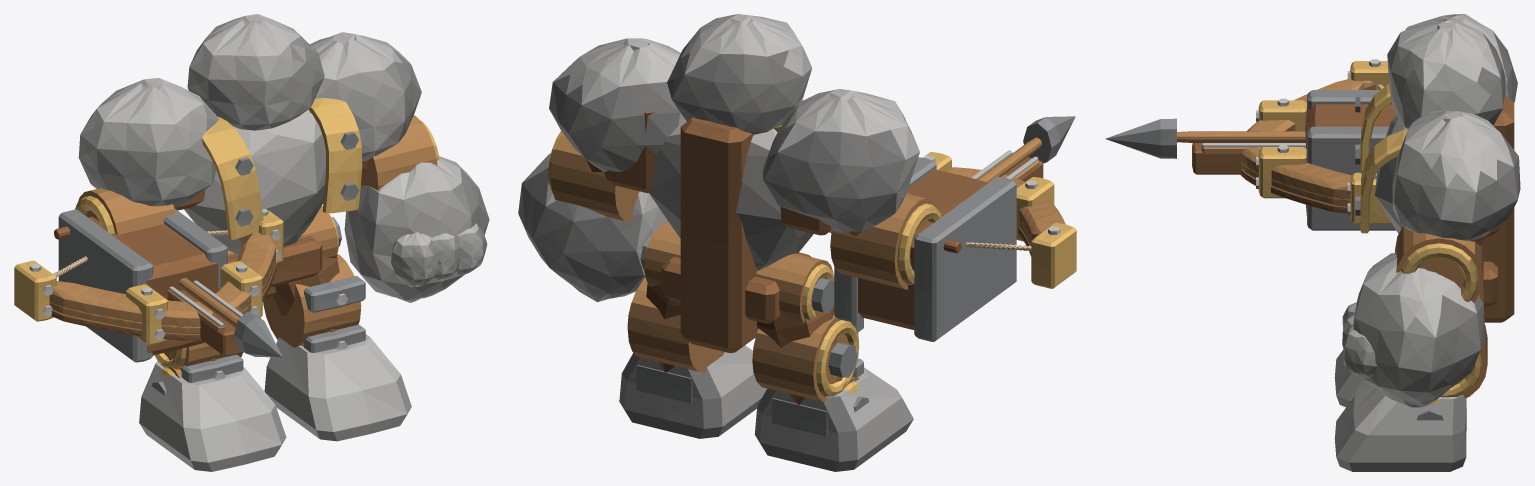
Rendered from emeraldgolem.glb.
3 views of the same model, side by side, from view 1: azimuth 30°, elevation 25°; view 2: azimuth 150°, elevation 25°; view 3: azimuth 270°, elevation 25° (orthographic). The views are drawn at different scales.
Parts seen in each view (by area): view 1: Golem — angular shoulder stone 1, Golem — source angular head, Golem LEFT — large source stone fist, Golem — source broad grounded angular stone foot 1, Golem — source broad grounded angular stone foot -1, Golem — asymmetric broad fractured pointed chest boulder, Golem — angular shoulder stone -1, Golem RIGHT compact physical ballista — broad continuously c (×2), Golem RIGHT — iron assembly clamp 0.564, Golem RIGHT — broad wood weapon forearm mount, Golem — source broad returned solid brass torso clamp 1, Golem — source broad returned solid brass torso clamp -1 (+21 smaller); view 2: Golem — angular shoulder stone 1, Golem — shaped timber spine, Golem — source angular head, Golem — angular shoulder stone -1, Golem RIGHT — iron assembly clamp 0.564, Golem LEFT — large source stone fist, Golem — source broad grounded angular stone foot 1, Golem — source broad grounded angular stone foot -1, Golem — asymmetric broad fractured pointed chest boulder, Golem RIGHT — broad wood weapon forearm mount, Golem — elbow wooden wheel 1, Golem — knee wooden wheel joint 1 (+21 smaller); view 3: Golem LEFT — large source stone fist, Golem — angular shoulder stone -1, Golem — source angular head, Golem — source broad grounded angular stone foot -1, Golem RIGHT compact physical ballista — broad continuously c (×2), Golem RIGHT — iron assembly clamp 0.327, Golem — shaped timber spine, Golem — elbow wooden wheel -1, Golem RIGHT compact physical ballista — thick limb collar -1 (×2), Golem RIGHT compact physical ballista — thick limb collar 1  (×2), Golem RIGHT compact physical ballista — large physical steel, Golem RIGHT — broad wood weapon forearm mount (+15 smaller).
Part boxes in pixels (x1,y1,x2,y2): Golem — angular shoulder stone 1: (78, 78, 219, 207); Golem — source angular head: (187, 14, 324, 130); Golem LEFT — large source stone fist: (344, 156, 489, 302); Golem — source broad grounded angular stone foot 1: (139, 360, 286, 471); Golem — source broad grounded angular stone foot -1: (264, 334, 411, 441); Golem — asymmetric broad fractured pointed chest boulder: (184, 109, 325, 253); Golem — angular shoulder stone -1: (310, 32, 421, 161); Golem RIGHT compact physical ballista — broad continuously c (×2): (49, 231, 275, 333); Golem RIGHT — iron assembly clamp 0.564: (58, 209, 153, 362); Golem RIGHT — broad wood weapon forearm mount: (89, 216, 217, 355); Golem — source broad returned solid brass torso clamp 1: (202, 116, 263, 240); Golem — source broad returned solid brass torso clamp -1: (308, 98, 362, 213); Golem — angular shoulder stone 1: (762, 89, 919, 232); Golem — shaped timber spine: (680, 117, 757, 352); Golem — source angular head: (667, 14, 812, 134); Golem — angular shoulder stone -1: (549, 38, 682, 171); Golem RIGHT — iron assembly clamp 0.564: (914, 176, 1016, 341); Golem LEFT — large source stone fist: (518, 153, 668, 302); Golem — source broad grounded angular stone foot 1: (754, 367, 913, 471); Golem — source broad grounded angular stone foot -1: (619, 345, 766, 438); Golem — asymmetric broad fractured pointed chest boulder: (648, 117, 813, 270); Golem RIGHT — broad wood weapon forearm mount: (858, 169, 988, 329); Golem — elbow wooden wheel 1: (830, 193, 939, 289); Golem — knee wooden wheel joint 1: (752, 313, 858, 402); Golem LEFT — large source stone fist: (1353, 253, 1485, 407); Golem — angular shoulder stone -1: (1392, 110, 1520, 240); Golem — source angular head: (1387, 18, 1505, 128); Golem — source broad grounded angular stone foot -1: (1334, 384, 1466, 471); Golem RIGHT compact physical ballista — broad continuously c (×2): (1241, 78, 1375, 206); Golem RIGHT — iron assembly clamp 0.327: (1307, 126, 1395, 230); Golem — shaped timber spine: (1482, 95, 1514, 322); Golem — elbow wooden wheel -1: (1395, 226, 1483, 302); Golem RIGHT compact physical ballista — thick limb collar -1 (×2): (1258, 147, 1391, 224); Golem RIGHT compact physical ballista — thick limb collar 1  (×2): (1258, 61, 1389, 131); Golem RIGHT compact physical ballista — large physical steel: (1105, 118, 1176, 158); Golem RIGHT — broad wood weapon forearm mount: (1305, 104, 1396, 215).
Size of the model in its own units: 1.53 by 1.19 by 1.14.
